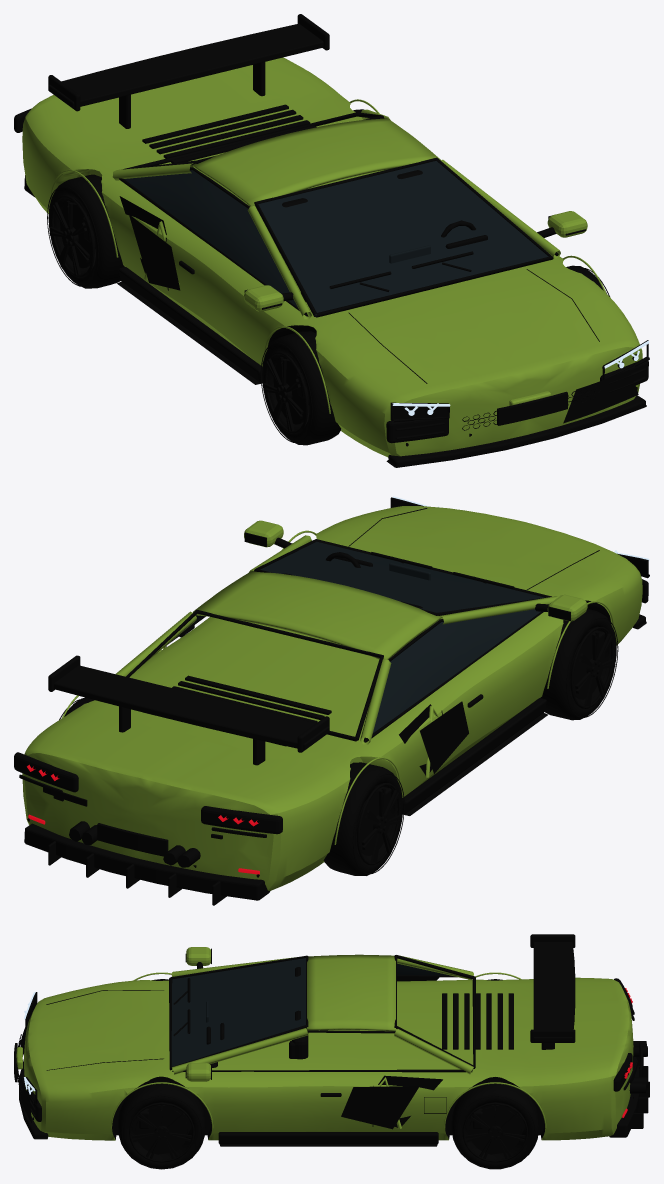
File: lamborghini.glb
3 views of the same model, one above another, from view 1: azimuth 30°, elevation 25°; view 2: azimuth 150°, elevation 25°; view 3: azimuth 270°, elevation 25° (orthographic). The views are drawn at different scales.
Visible parts, largest first — view 1: chassis.001__Automotive clearcoat, chassis.001__Vehicle detail atlas, chassis.001__Solar glass, wheel_FL.001__Vehicle detail atlas, wheel_RL.001__Vehicle detail atlas; view 2: chassis.001__Automotive clearcoat, chassis.001__Vehicle detail atlas, chassis.001__Solar glass, wheel_RL.001__Vehicle detail atlas, wheel_FL.001__Vehicle detail atlas; view 3: chassis.001__Automotive clearcoat, chassis.001__Vehicle detail atlas, chassis.001__Solar glass, wheel_FR.001__Vehicle detail atlas, wheel_RR.001__Vehicle detail atlas.
Part boxes in pixels (bbox=[...]): chassis.001__Automotive clearcoat: bbox=[22, 57, 642, 457]; chassis.001__Vehicle detail atlas: bbox=[14, 14, 648, 467]; chassis.001__Solar glass: bbox=[124, 161, 548, 315]; wheel_FL.001__Vehicle detail atlas: bbox=[260, 331, 341, 445]; wheel_RL.001__Vehicle detail atlas: bbox=[47, 174, 124, 288]; chassis.001__Automotive clearcoat: bbox=[22, 506, 642, 890]; chassis.001__Vehicle detail atlas: bbox=[14, 497, 648, 905]; chassis.001__Solar glass: bbox=[190, 541, 544, 732]; wheel_RL.001__Vehicle detail atlas: bbox=[323, 762, 404, 875]; wheel_FL.001__Vehicle detail atlas: bbox=[540, 608, 618, 720]; chassis.001__Automotive clearcoat: bbox=[16, 947, 633, 1140]; chassis.001__Vehicle detail atlas: bbox=[14, 934, 649, 1146]; chassis.001__Solar glass: bbox=[171, 958, 448, 1066]; wheel_FR.001__Vehicle detail atlas: bbox=[118, 1081, 205, 1169]; wheel_RR.001__Vehicle detail atlas: bbox=[451, 1081, 539, 1169].
Bounding box in the file's own units: 2.42 × 1.18 × 5.15.
8 materials, 6 textured.
